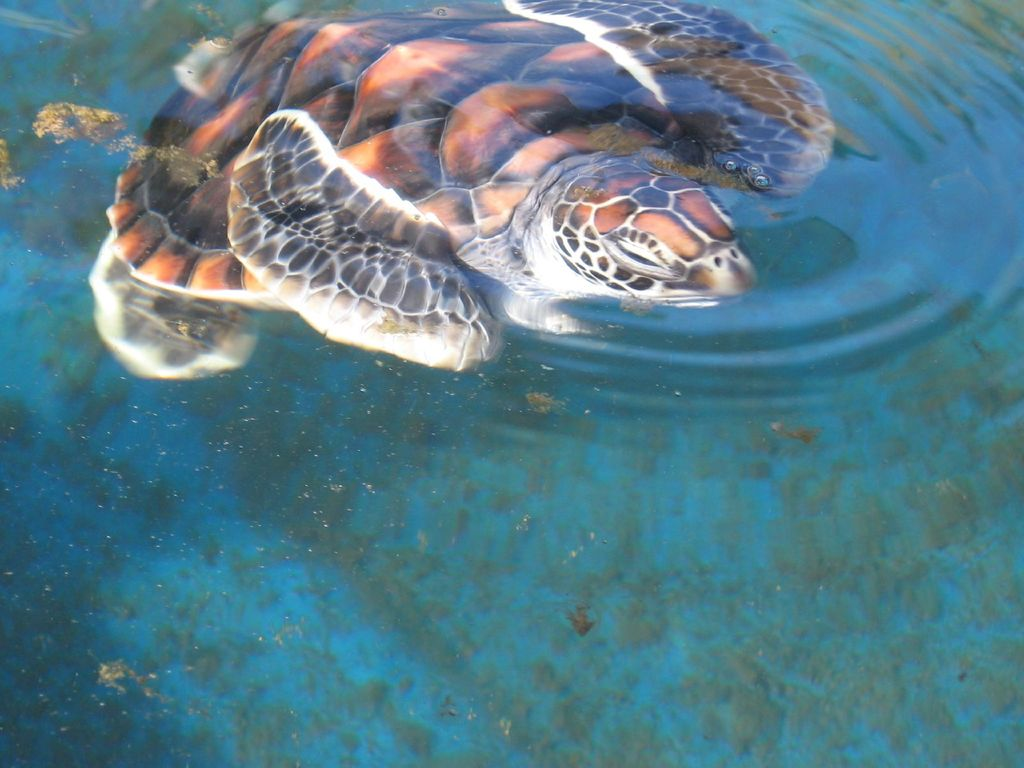Sea turtles: (85, 0, 879, 387)
